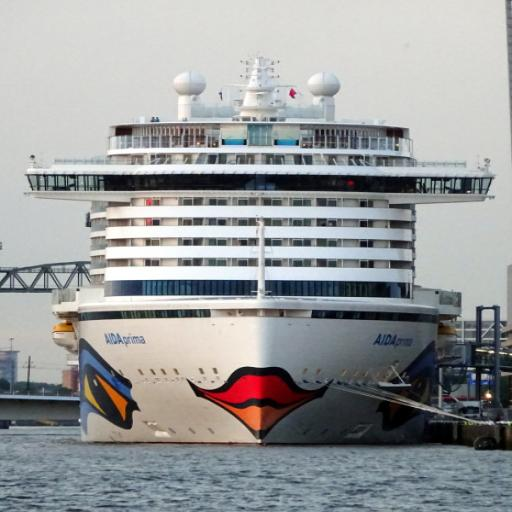cruises: (18, 52, 498, 451)
